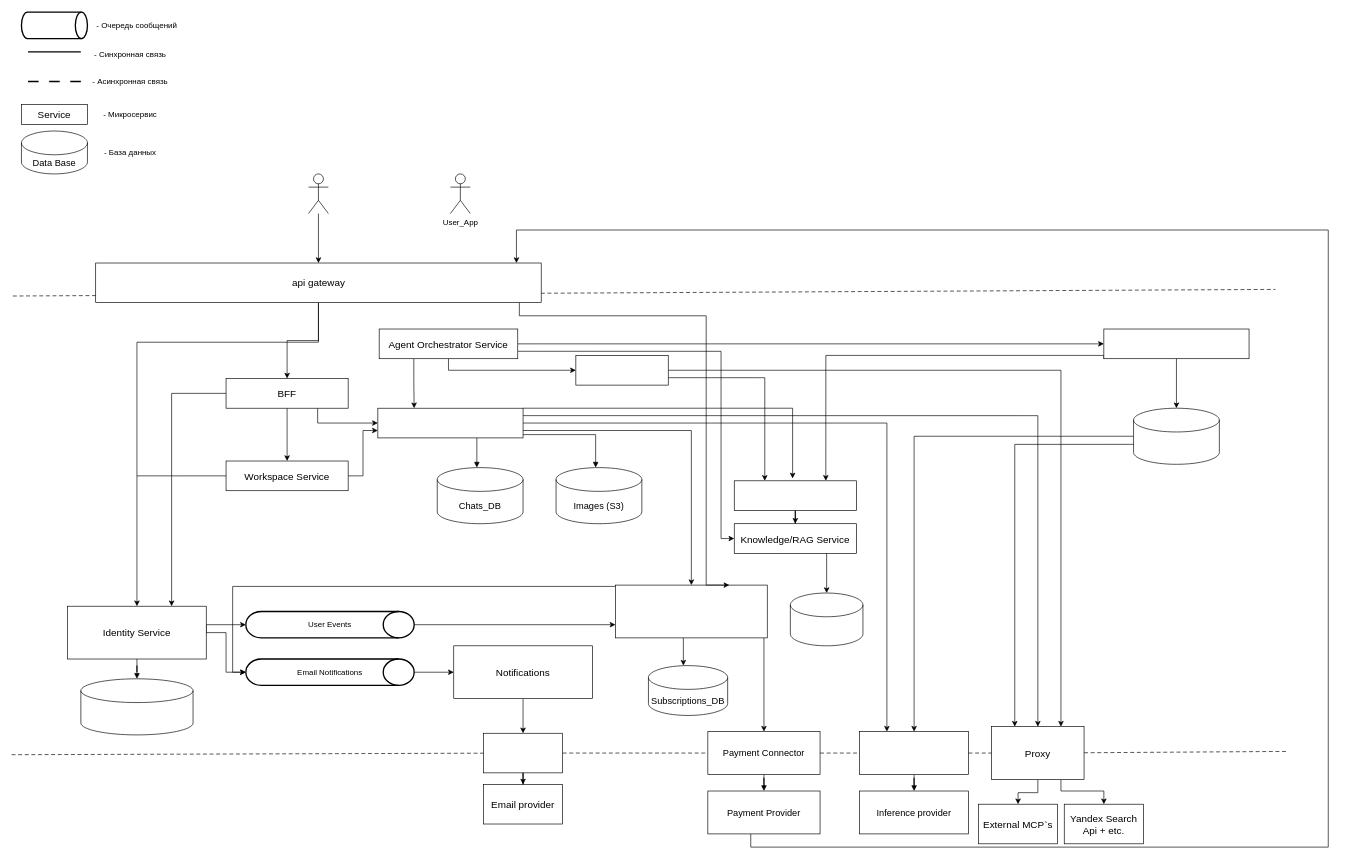
Some shapes in this 1345 by 864 pixel diagram are drawn without their labels. The shapes that lost their labels are listed below. From the top down, each one's centre as x and y in pixels, then its label:
the point at 318,193: User_web
the point at 1176,343: Tool Execution/Sandbox Service
the point at 621,370: Web Search Service
the point at 450,423: Chat Service
the point at 1176,436: File Metadata_DB
the point at 795,495: File Processing Service
the point at 691,611: Subscription Service
the point at 826,619: Vector_DB
the point at 136,706: Users & Credentials_DB
the point at 523,753: Email adapter
the point at 914,753: LLM Connector
